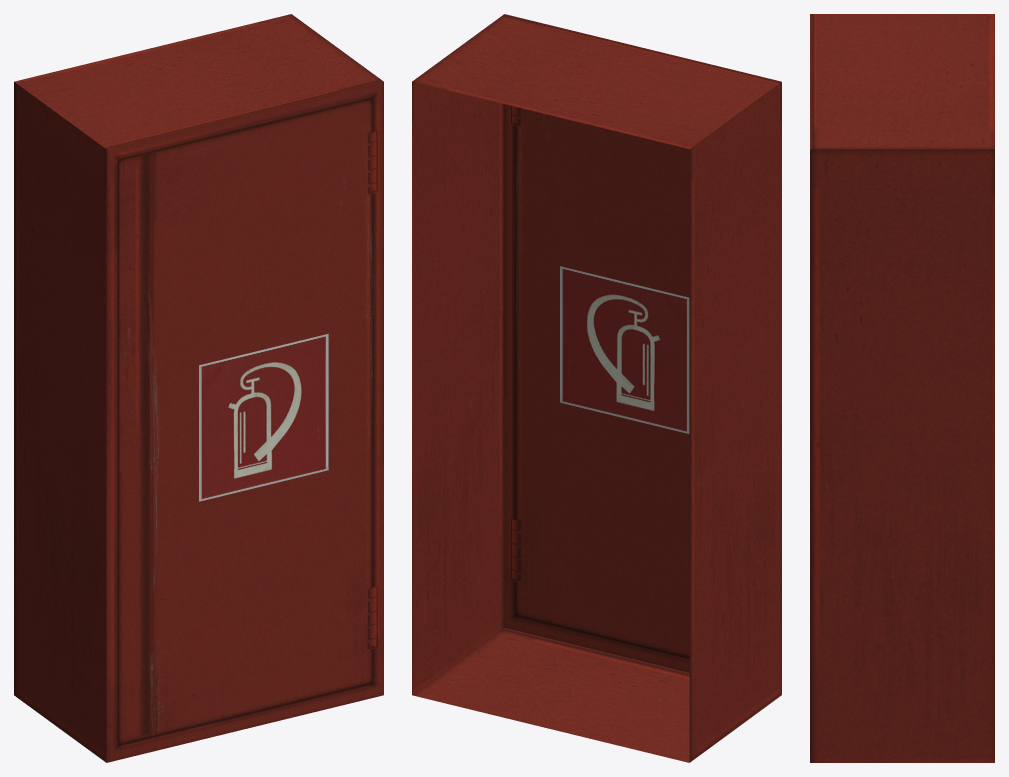
Rendered from ms_fire_extinguisherbox.fbx.
The picture shows the model from 3 angles, left to right: view 1: azimuth 30°, elevation 25°; view 2: azimuth 150°, elevation 25°; view 3: azimuth 270°, elevation 25°; orthographic projection.
Visible parts, largest first — view 1: ms_fire_extinguisherbox; view 2: ms_fire_extinguisherbox; view 3: ms_fire_extinguisherbox.
Part boxes in pixels (left/top/right/bottom): ms_fire_extinguisherbox: left=14, top=14, right=383, bottom=762; ms_fire_extinguisherbox: left=412, top=14, right=781, bottom=762; ms_fire_extinguisherbox: left=810, top=14, right=994, bottom=762.
Size of the model in its own units: 37.35 by 78.95 by 21.55.
